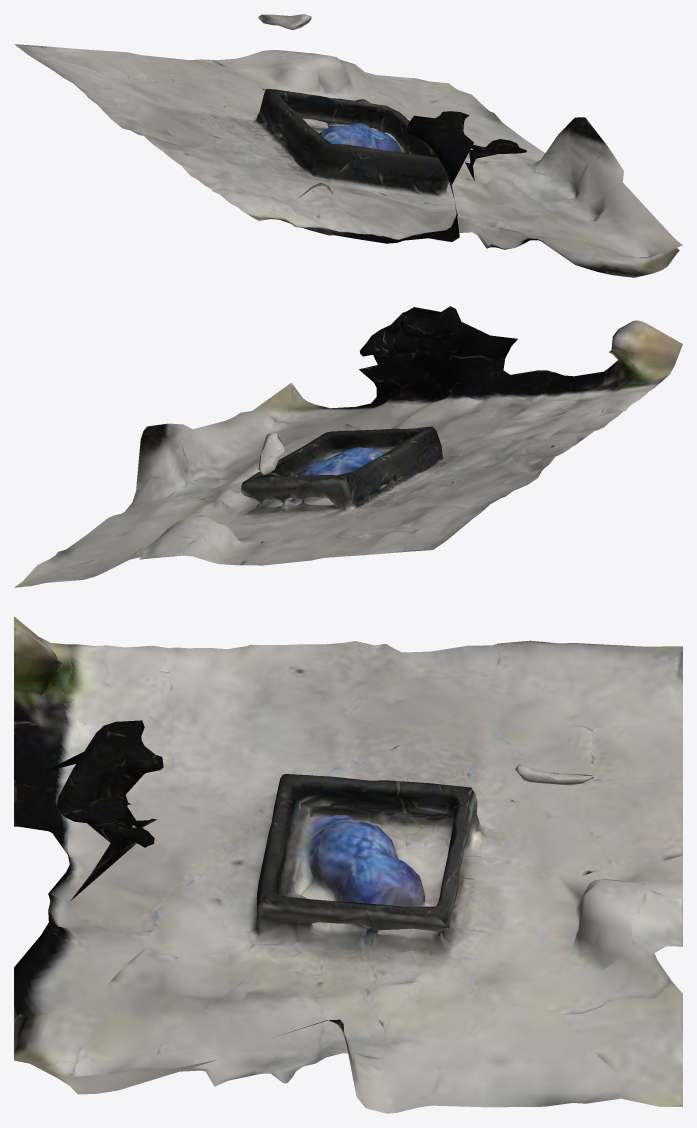
The model's file is hall.glb.
3 views of the same model, one above another, from view 1: azimuth 30°, elevation 25°; view 2: azimuth 150°, elevation 25°; view 3: azimuth 270°, elevation 25° (orthographic). The views are drawn at different scales.
Bounding box in the file's own units: 2.15 × 0.8897 × 2.22.
Materials: 1 (1 with a texture image).
